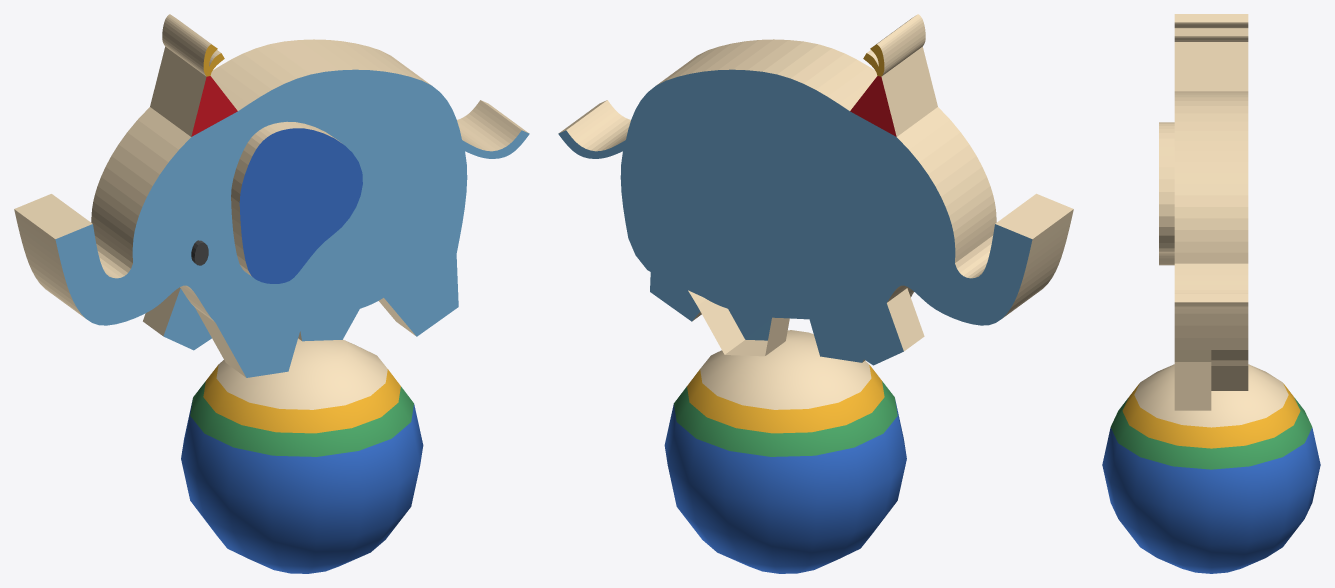
Rendered from Sculpture_Elephant_00.FBX.
3 renders of one model, left to right at view 1: azimuth 30°, elevation 25°; view 2: azimuth 150°, elevation 25°; view 3: azimuth 270°, elevation 25°, orthographic. The views are drawn at different scales.
Parts seen in each view (by area): view 1: Sculpture_Elephant_00, Ball_00; view 2: Sculpture_Elephant_00, Ball_00; view 3: Ball_00, Sculpture_Elephant_00.
Boxes of the visible parts, <box> form: Sculpture_Elephant_00: <box>14,14,529,377</box>; Ball_00: <box>181,338,423,573</box>; Sculpture_Elephant_00: <box>558,14,1073,365</box>; Ball_00: <box>664,330,906,573</box>; Ball_00: <box>1102,364,1320,573</box>; Sculpture_Elephant_00: <box>1159,14,1248,410</box>.
Size of the model in its own units: 5.38 by 6.08 by 2.4.
